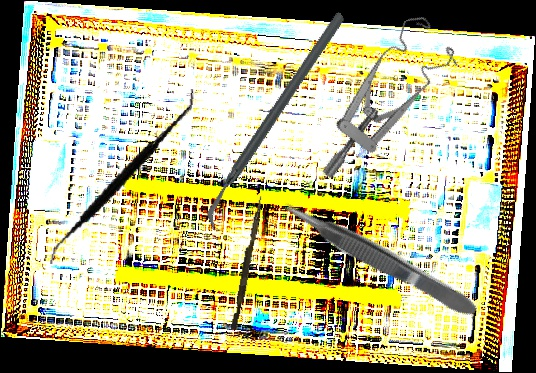Chopper: (148, 11, 403, 232)
Pusher: (230, 194, 264, 331)
Spatula Surgical: (47, 69, 196, 284)
Speculum: (277, 6, 480, 182)
Tissue Forceps: (277, 192, 482, 325)
